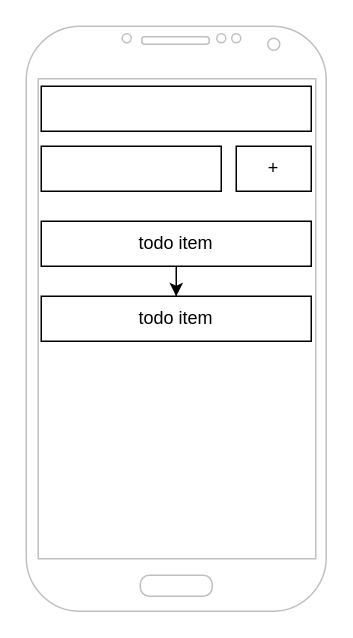
Some shapes in this 353 by 638 pixel diagram are drawn without their labels. The centre of each missing label's shape, as x and y in pixels:
"Navbar" belongs at (x=175, y=108).
"todo title" belongs at (x=130, y=168).
